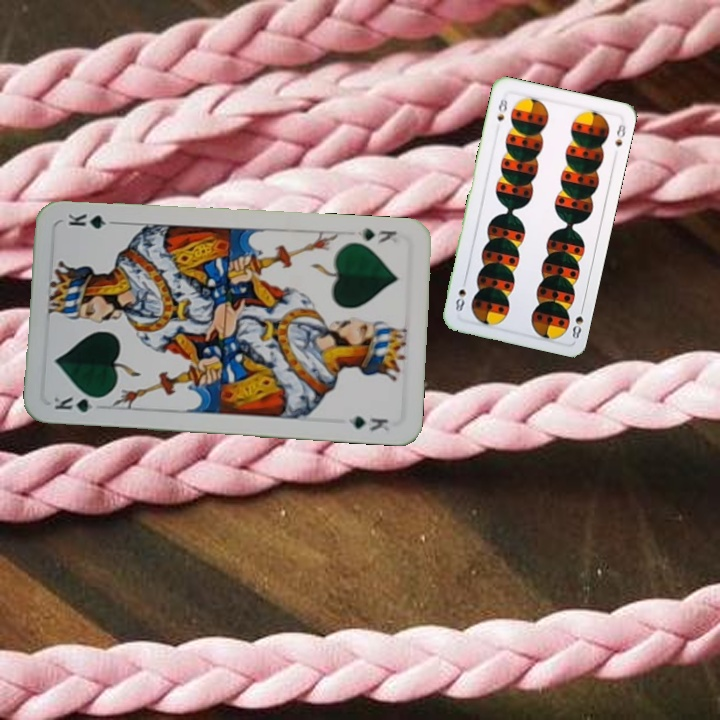GK: (50, 393, 107, 415), (354, 224, 399, 246)
S8: (568, 302, 587, 341), (493, 94, 510, 124)
